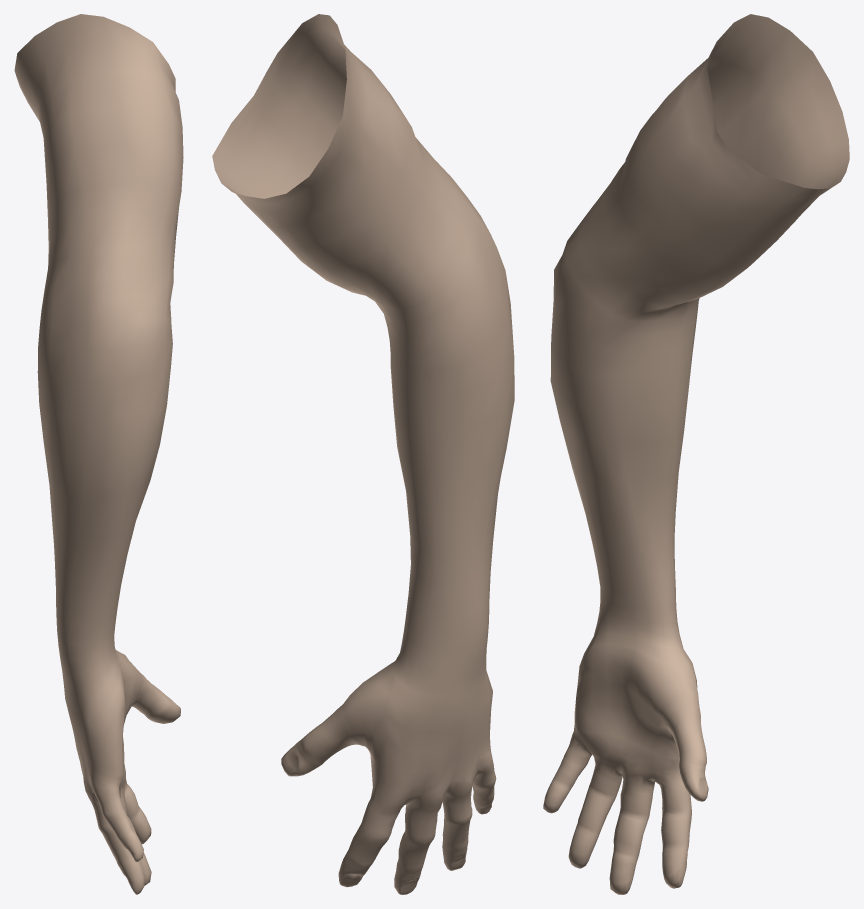
Rendered from Hand_Left.fbx.
3 views of the same model, side by side, from view 1: azimuth 30°, elevation 25°; view 2: azimuth 150°, elevation 25°; view 3: azimuth 270°, elevation 25° (orthographic). The views are drawn at different scales.
Parts seen in each view (by area): view 1: basicRig:Body.001; view 2: basicRig:Body.001; view 3: basicRig:Body.001.
Part boxes in pixels (left/top/right/bottom): basicRig:Body.001: left=14, top=14, right=183, bottom=894; basicRig:Body.001: left=212, top=14, right=514, bottom=894; basicRig:Body.001: left=543, top=14, right=849, bottom=894.
Size of the model in its own units: 84.31 by 370 by 117.
